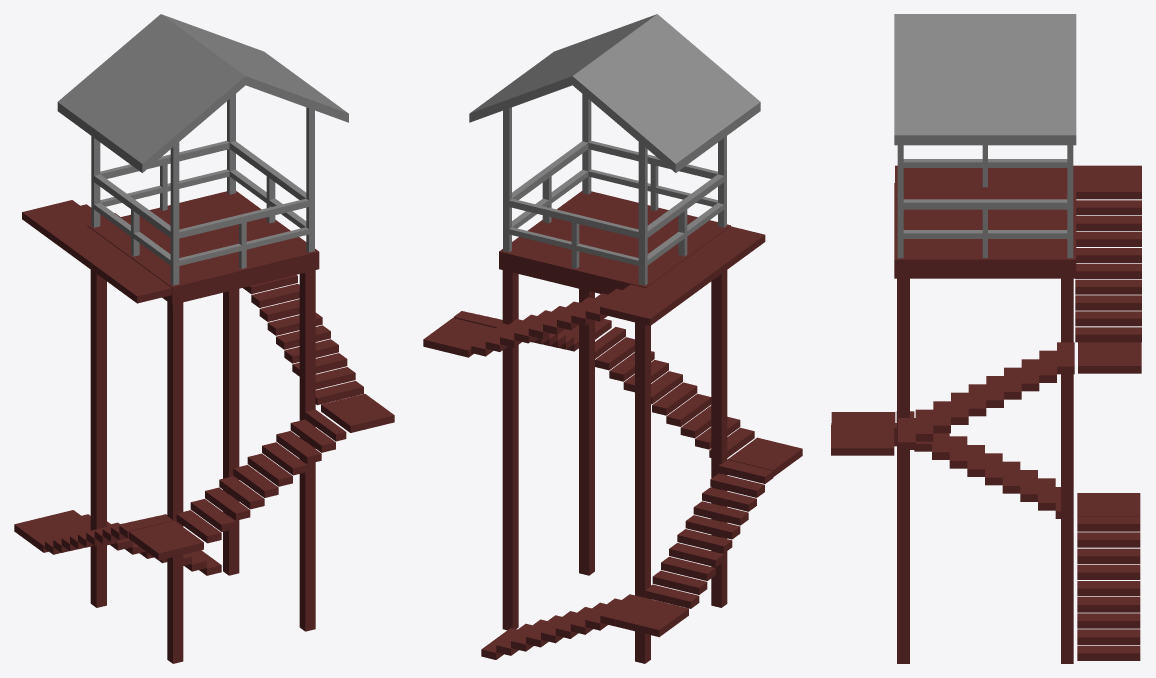
Rendered from towershooter1lvl.fbx.
The picture shows the model from 3 angles, left to right: view 1: azimuth 30°, elevation 25°; view 2: azimuth 150°, elevation 25°; view 3: azimuth 270°, elevation 25°; orthographic projection. The views are drawn at different scales.
Visible parts, largest first — view 1: Куб, Куб.002, Плоскость.001, Куб.001, Куб.005, Куб.006, Куб.007, Куб.004, Куб.003; view 2: Куб.002, Куб, Плоскость.001, Куб.001, Куб.007, Куб.004, Куб.005, Куб.003, Куб.006; view 3: Куб.002, Куб.007, Куб.001, Куб, Куб.003, Куб.006, Плоскость.001, Куб.004, Куб.005.
Part boxes in pixels (left/top/right/bottom): Куб: left=90, top=270, right=315, bottom=663; Куб.002: left=57, top=14, right=348, bottom=172; Плоскость.001: left=91, top=94, right=314, bottom=285; Куб.001: left=87, top=191, right=319, bottom=304; Куб.005: left=129, top=409, right=346, bottom=560; Куб.006: left=243, top=274, right=394, bottom=432; Куб.007: left=22, top=200, right=171, bottom=303; Куб.004: left=14, top=513, right=174, bottom=554; Куб.003: left=59, top=510, right=221, bottom=575; Куб.002: left=469, top=14, right=760, bottom=172; Куб: left=502, top=270, right=727, bottom=663; Плоскость.001: left=503, top=94, right=726, bottom=285; Куб.001: left=499, top=191, right=730, bottom=294; Куб.007: left=423, top=226, right=765, bottom=357; Куб.004: left=615, top=460, right=773, bottom=637; Куб.005: left=594, top=327, right=802, bottom=476; Куб.003: left=481, top=594, right=644, bottom=659; Куб.006: left=453, top=311, right=611, bottom=351; Куб.002: left=894, top=14, right=1076, bottom=145; Куб.007: left=895, top=165, right=1141, bottom=373; Куб.001: left=894, top=183, right=1076, bottom=278; Куб: left=897, top=278, right=1073, bottom=663; Куб.003: left=1077, top=516, right=1140, bottom=660; Куб.006: left=831, top=342, right=1074, bottom=455; Плоскость.001: left=897, top=145, right=1073, bottom=258; Куб.004: left=896, top=411, right=1140, bottom=518; Куб.005: left=831, top=412, right=896, bottom=446.
Size of the model in its own units: 322 by 745 by 342.
